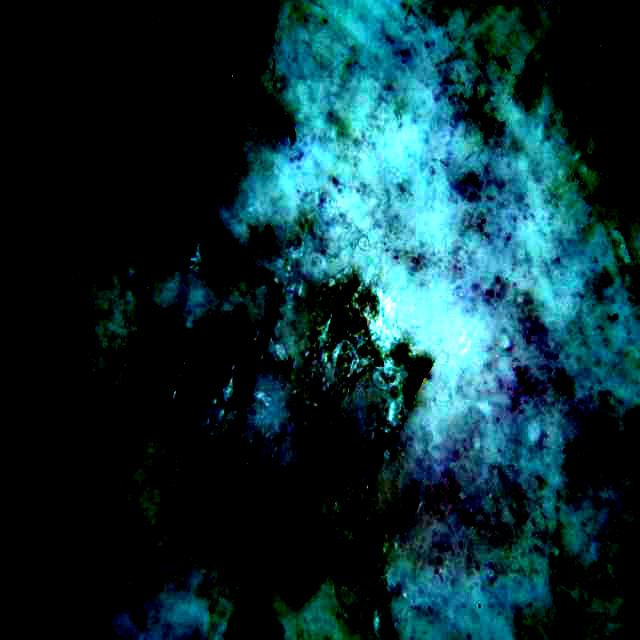AKIEC: (101, 31, 432, 598)
